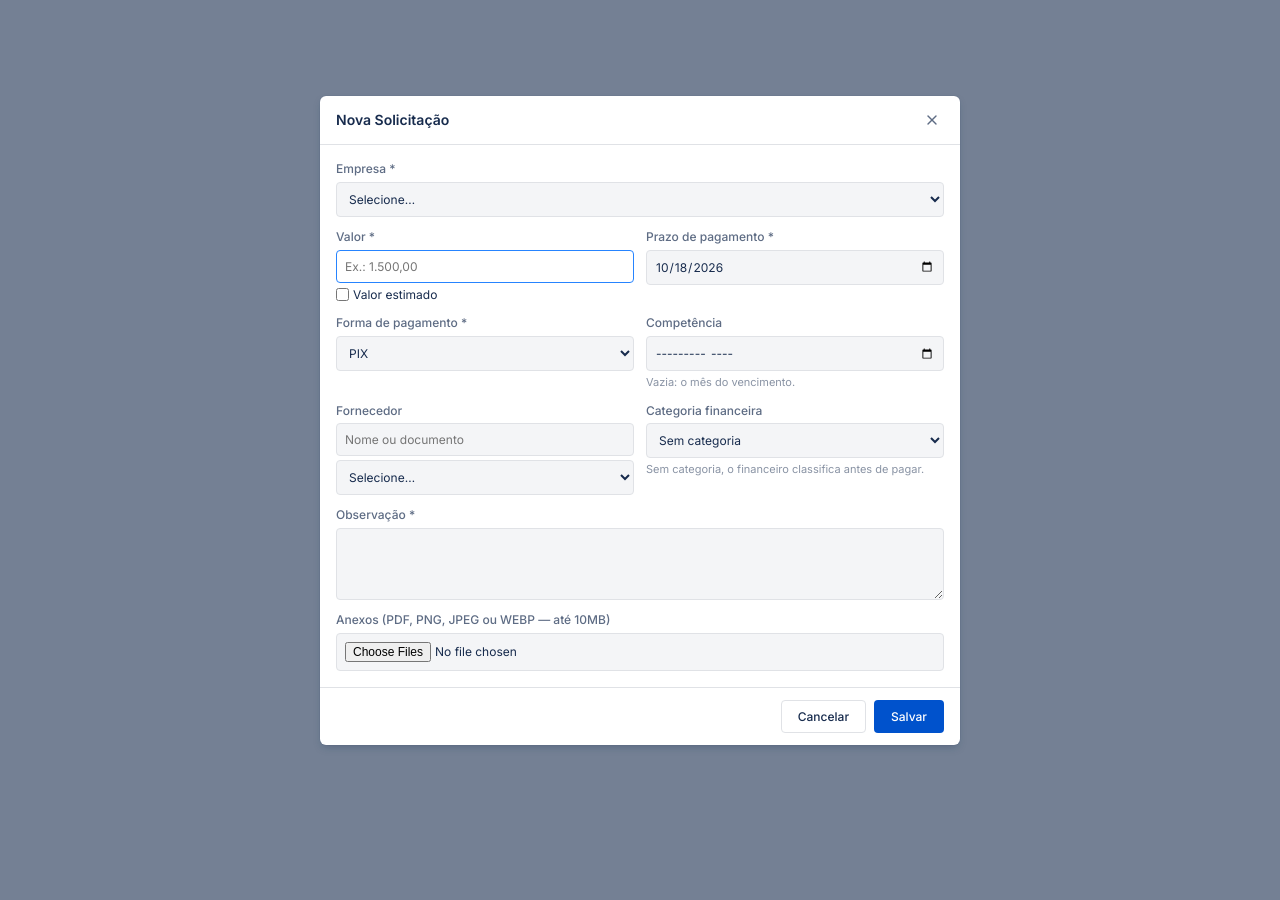
it: SolicitacaoFormModal › exige a empresa antes de salvar
Type "1.500" into the field labelled "Valor *" at (485,266), box x1=336 y1=250 x2=634 y2=283
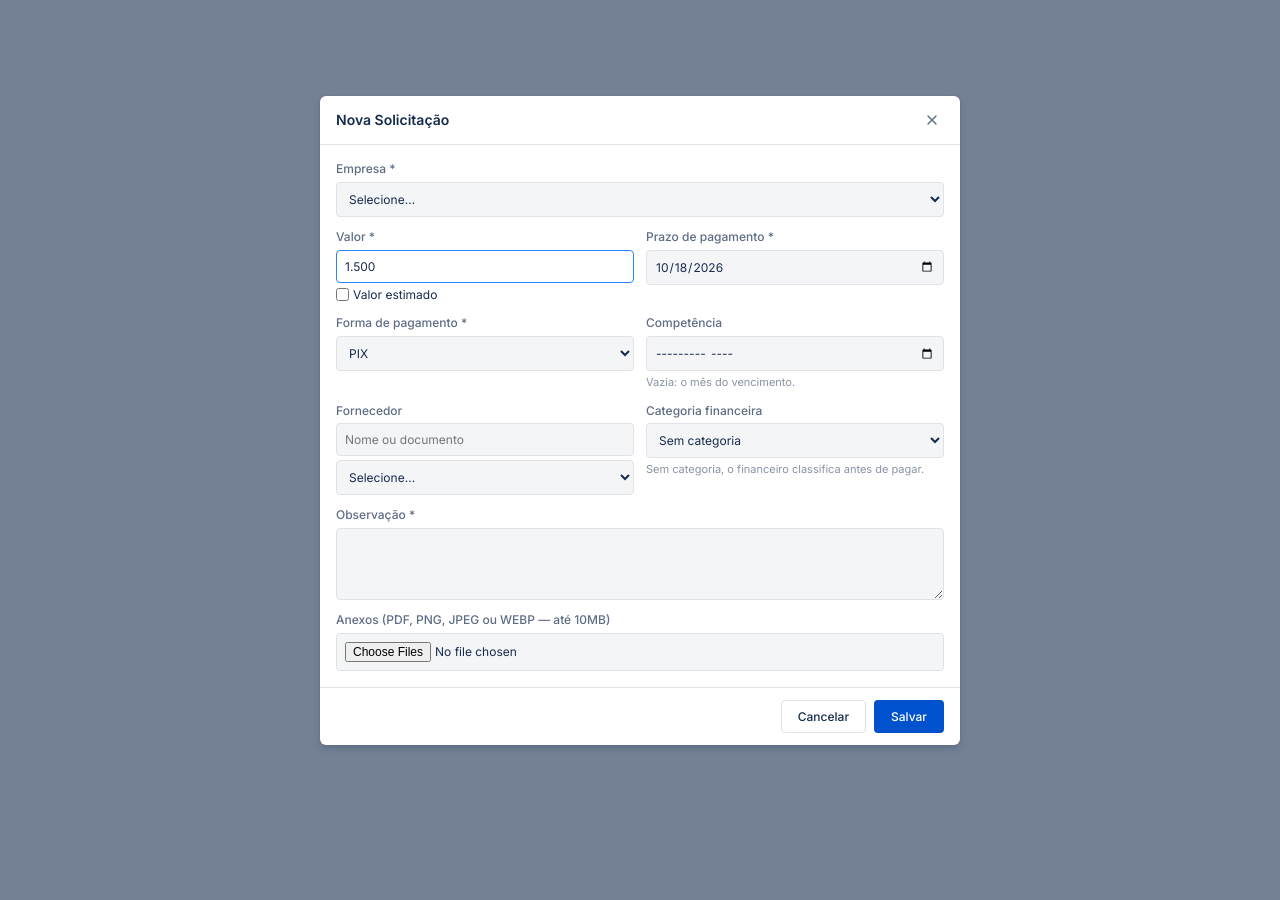
Type "Compra de cimento" into the text box labelled "Observação *" at (640,564), box x1=336 y1=528 x2=944 y2=600
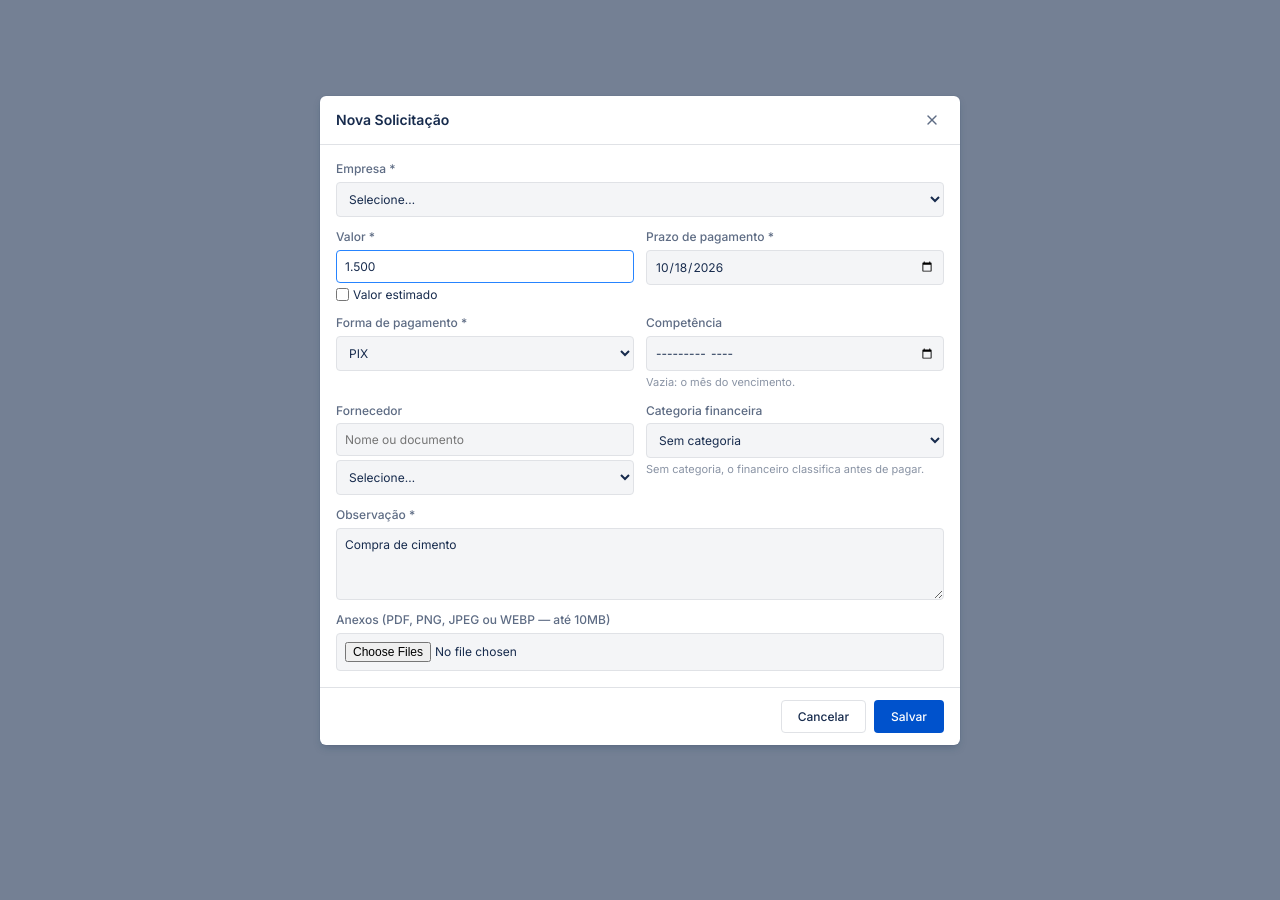
Click the button "Salvar" at (909,716), box x1=874 y1=700 x2=944 y2=733
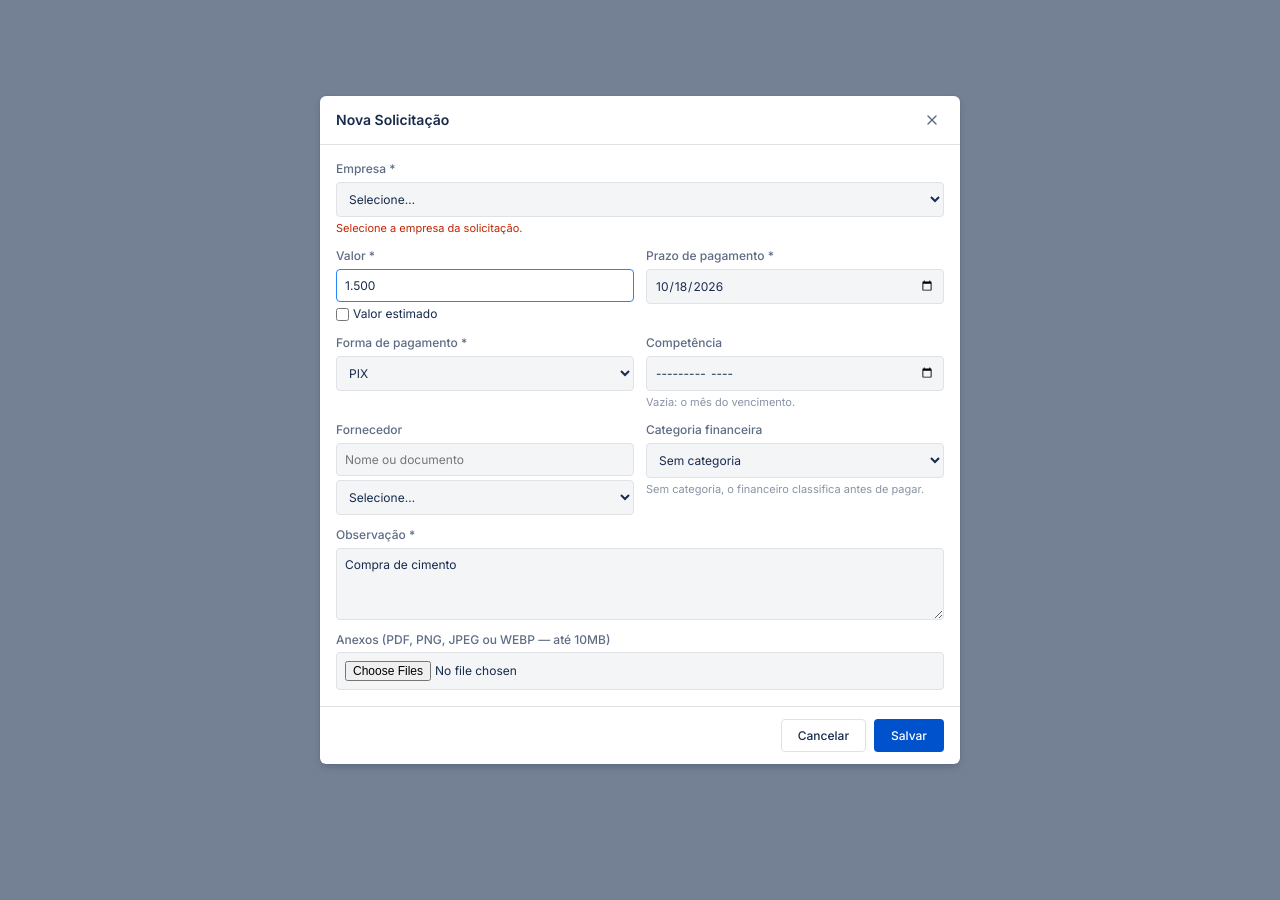
Check: the text "Selecione a empresa da solicitação." is shown, box x1=336 y1=221 x2=522 y2=235
